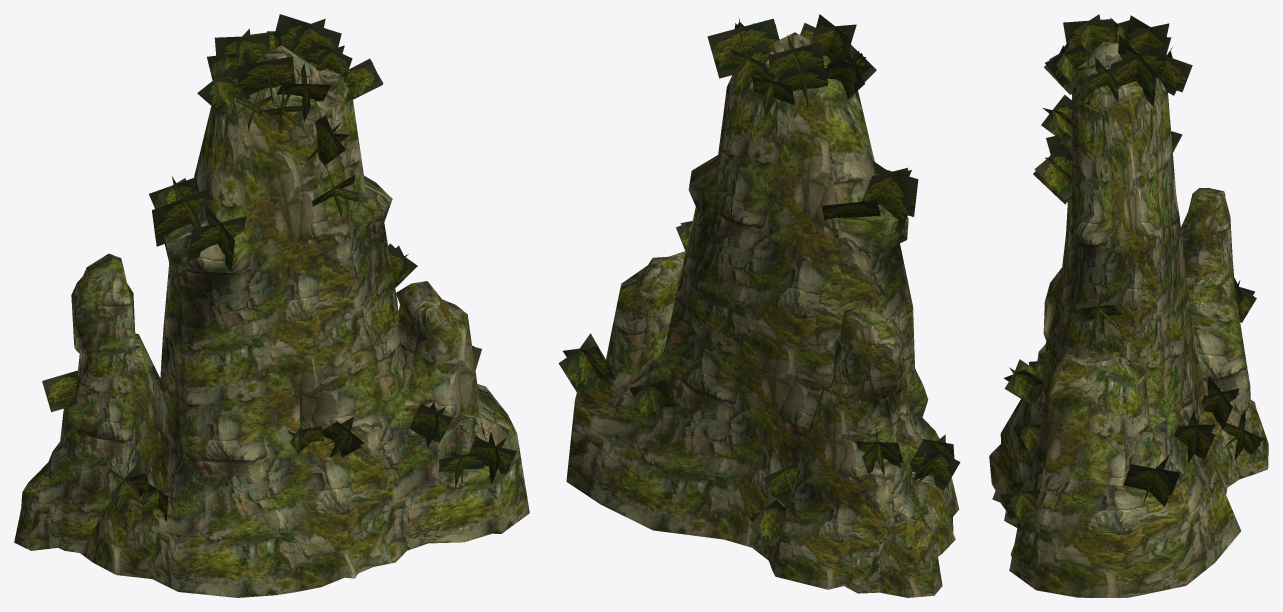
File: shanti_20.fbx
The picture shows the model from 3 angles, left to right: view 1: azimuth 30°, elevation 25°; view 2: azimuth 150°, elevation 25°; view 3: azimuth 270°, elevation 25°; orthographic projection. The views are drawn at different scales.
Visible parts, largest first — view 1: shanti_20; view 2: shanti_20; view 3: shanti_20.
Part boxes in pixels (bbox=[...]): shanti_20: bbox=[14, 14, 529, 597]; shanti_20: bbox=[558, 14, 960, 597]; shanti_20: bbox=[989, 14, 1268, 597].
Size of what is drawn, in the model's own units: 5457 by 6079 by 3264.
